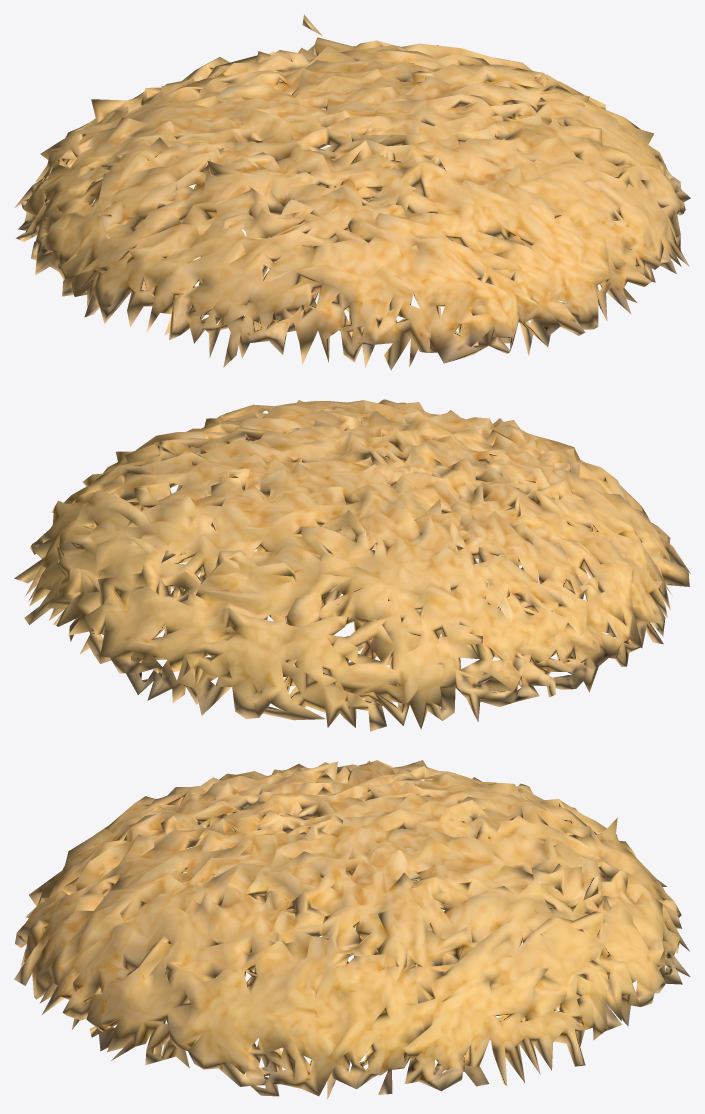
Rendered from Cheese_Layer_0617104312_texture.glb.
3 renders of one model, top to bottom at view 1: azimuth 30°, elevation 25°; view 2: azimuth 150°, elevation 25°; view 3: azimuth 270°, elevation 25°, orthographic. The views are drawn at different scales.
Bounding box in the file's own units: 2.01 × 0.4554 × 2.
Materials: 1 (1 with a texture image).
